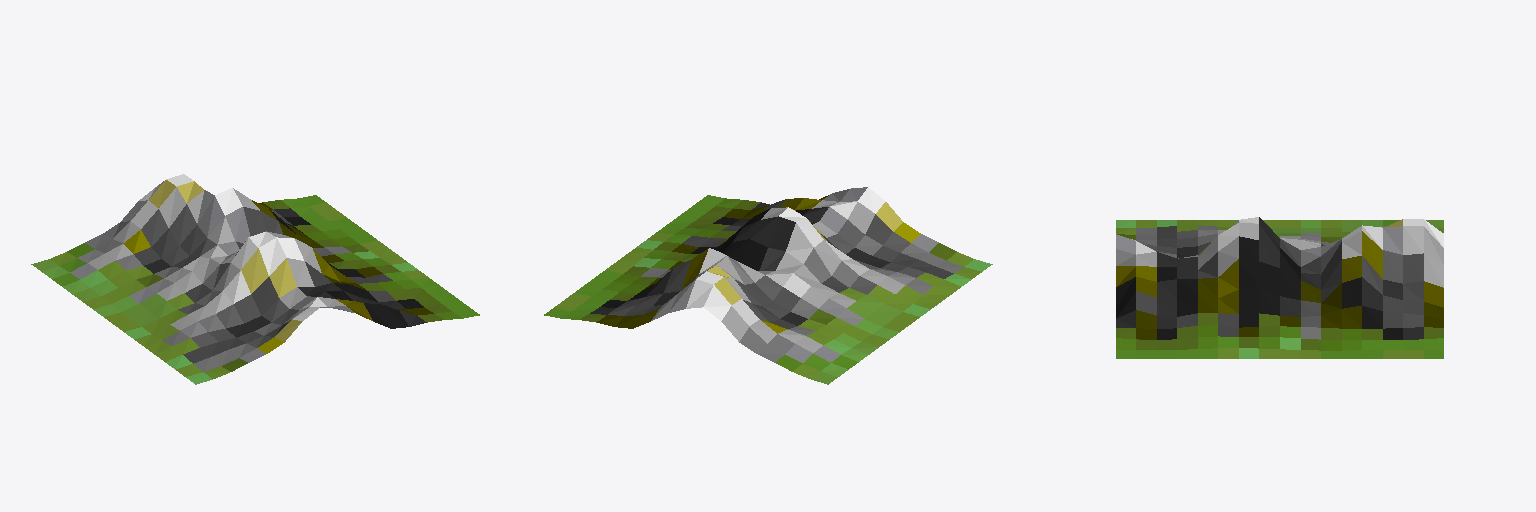
The picture shows the model from 3 angles: view 1: azimuth 30°, elevation 25°; view 2: azimuth 150°, elevation 25°; view 3: azimuth 270°, elevation 25°; orthographic projection.
Visible parts, largest first — view 1: mountains5; view 2: mountains5; view 3: mountains5.
Part boxes in pixels (left/top/right/bottom): mountains5: left=31, top=174, right=479, bottom=384; mountains5: left=544, top=187, right=992, bottom=384; mountains5: left=1116, top=217, right=1443, bottom=358.
Bounding box in the file's own units: 1 × 0.2272 × 1.
1 materials, 1 textured.